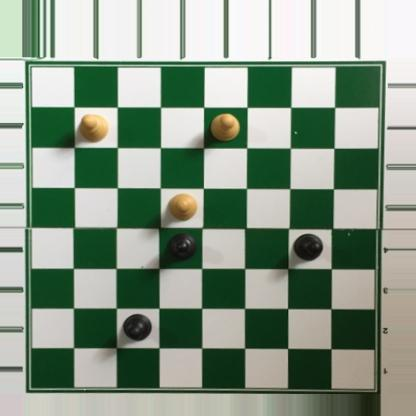black-pawn: (292, 232, 324, 264), (122, 313, 153, 344), (165, 233, 198, 262)
white-pawn: (166, 192, 198, 221), (77, 113, 108, 142), (209, 113, 240, 141)
